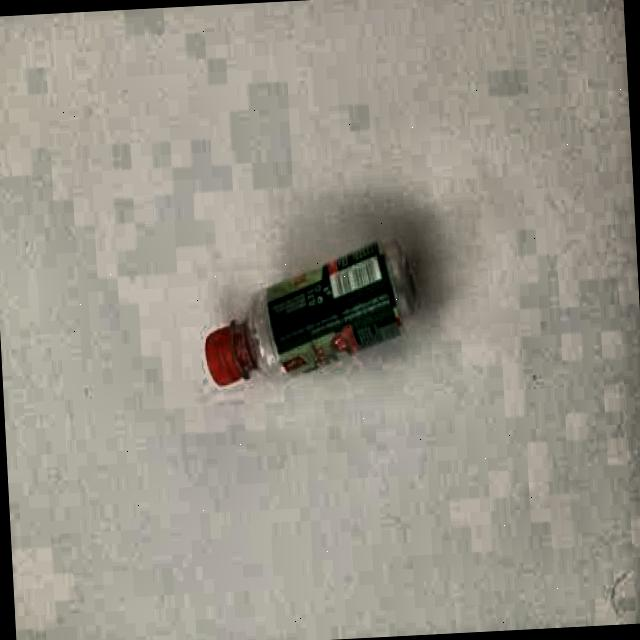plastic: (190, 238, 429, 386)
